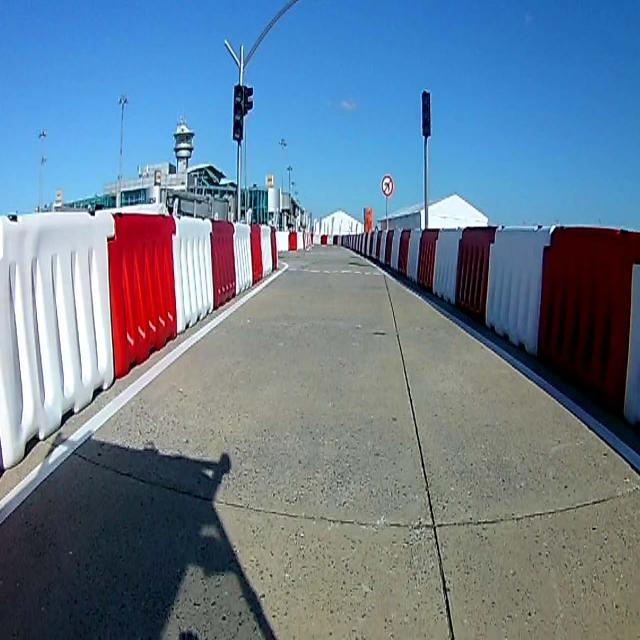soladonulmez: (380, 172, 394, 198)
